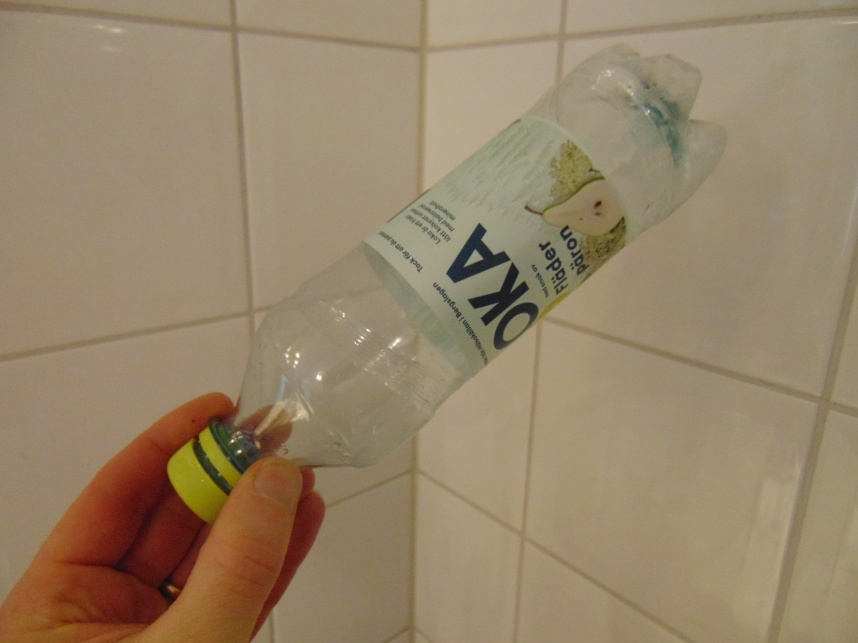plastic_bottle: (166, 45, 731, 524)
